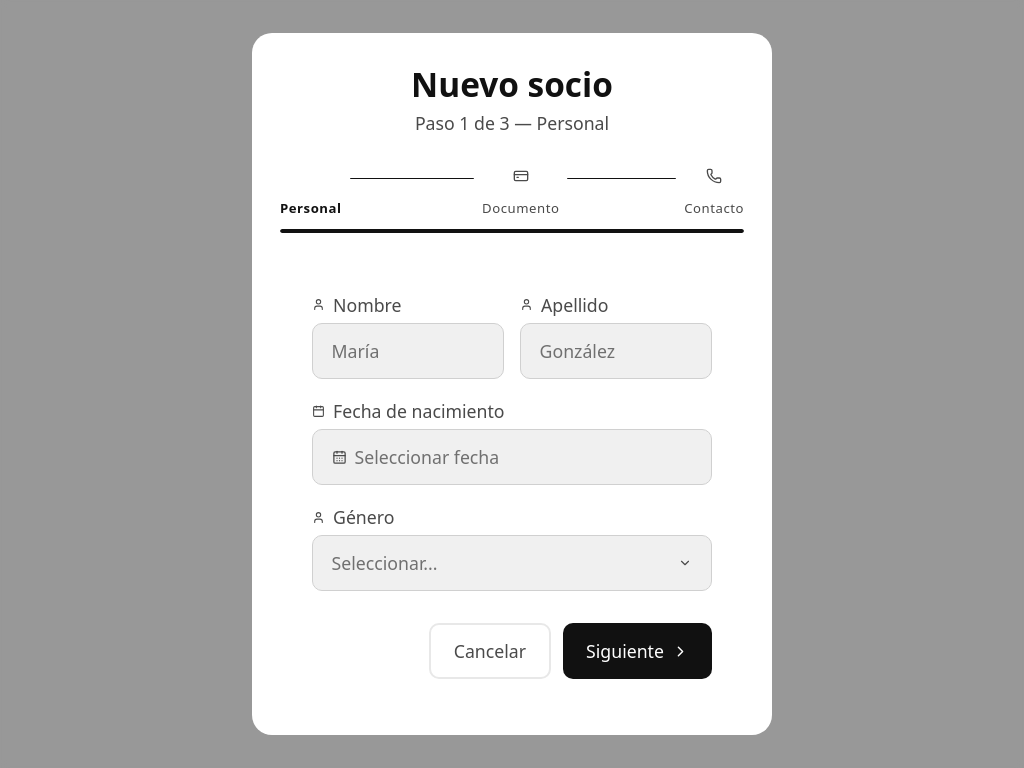
CreateSocioForm › muestra errores de validación si se intenta avanzar con campos vacíos
The image size is (1024, 768).
Click the button "Siguiente": x=638, y=651 [563,623,712,679]
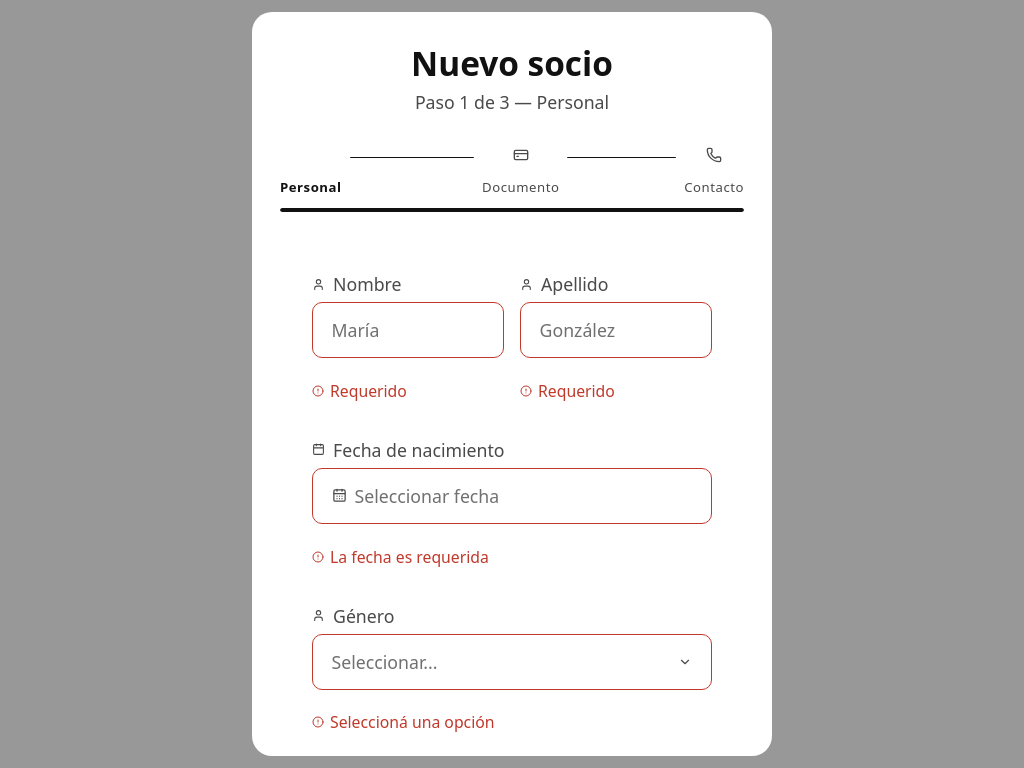
Result: the text "Requerido" below "Nombre" is shown at [330,380,407,402]
